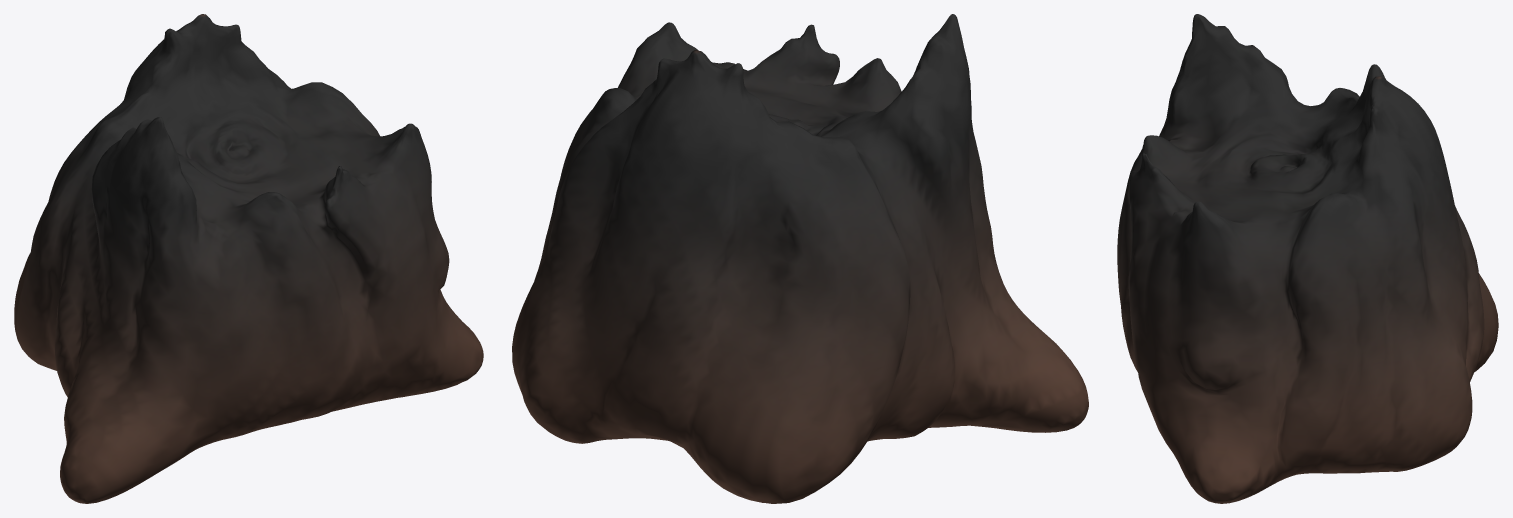
Rendered from GameJam_Burned_tree1_Textured.fbx.
3 views of the same model, side by side, from view 1: azimuth 30°, elevation 25°; view 2: azimuth 150°, elevation 25°; view 3: azimuth 270°, elevation 25° (orthographic). The views are drawn at different scales.
Parts seen in each view (by area): view 1: Burned_tree1_LowPoly:Group228; view 2: Burned_tree1_LowPoly:Group228; view 3: Burned_tree1_LowPoly:Group228.
Part boxes in pixels (box(x1,y1,x2,y2)): Burned_tree1_LowPoly:Group228: box(14, 14, 483, 503); Burned_tree1_LowPoly:Group228: box(512, 14, 1088, 503); Burned_tree1_LowPoly:Group228: box(1117, 14, 1498, 503).
Bounding box in the file's own units: 2.68 × 2.1 × 2.05.
1 material, 1 textured.
